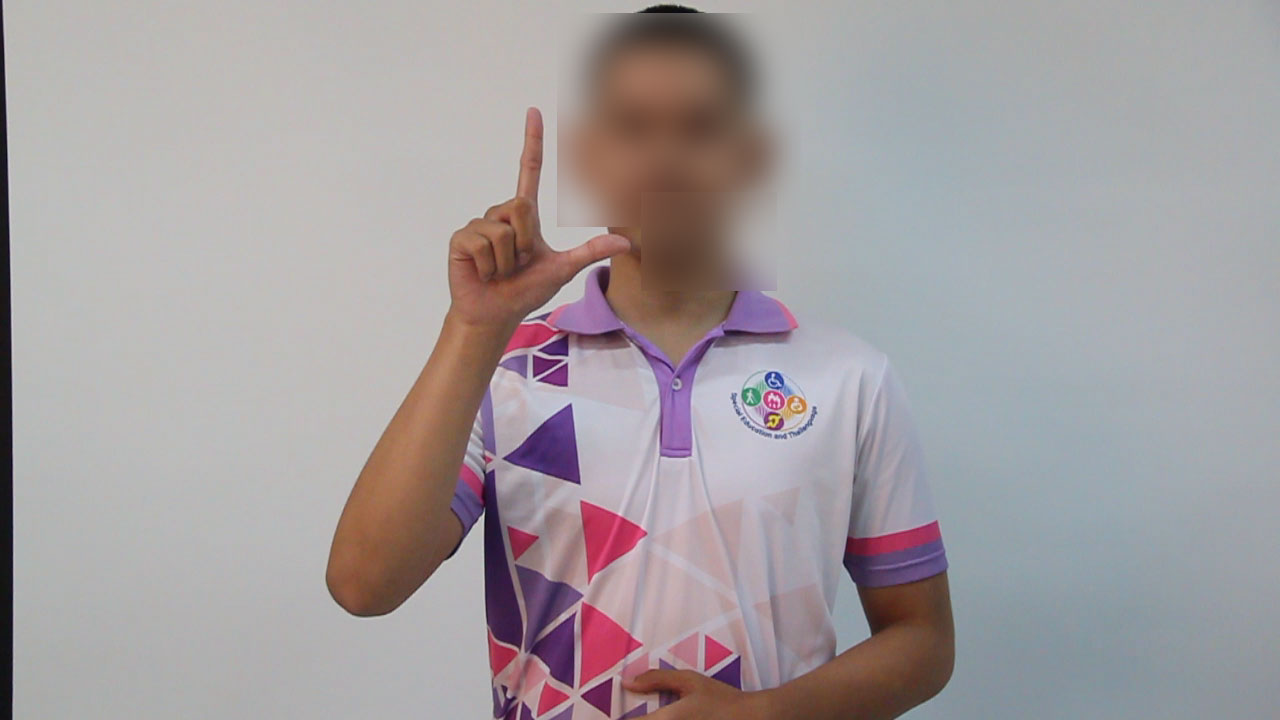lor: (374, 78, 657, 390)
